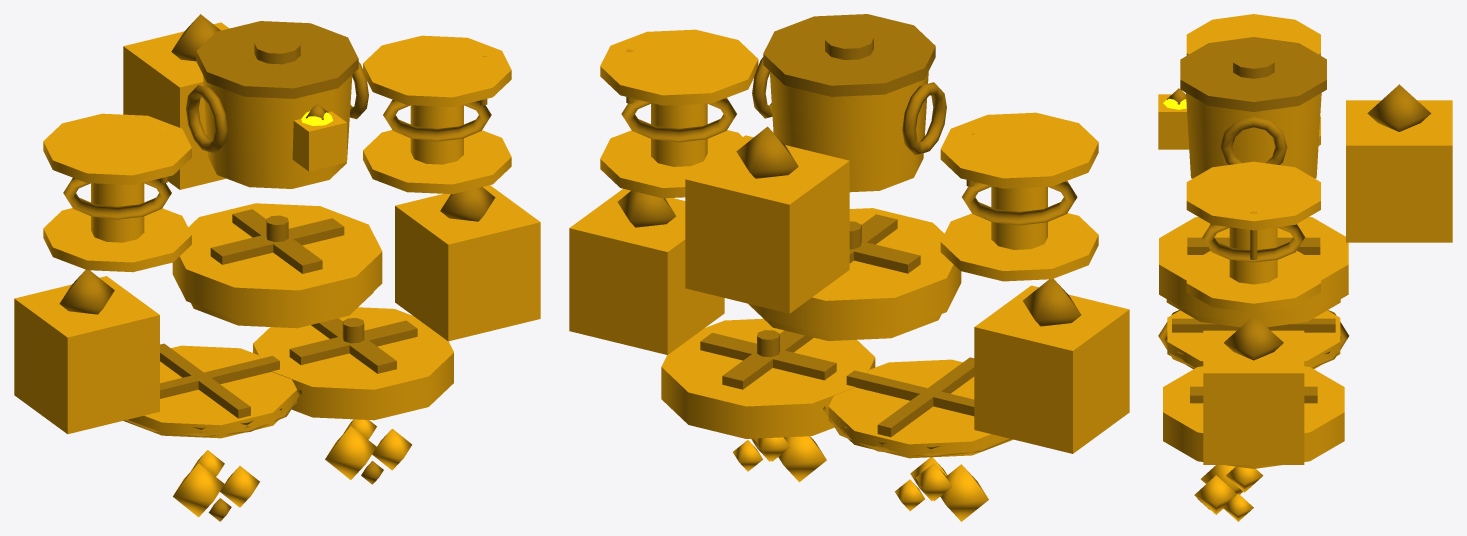
The model's file is golem_014.glb.
3 renders of one model, left to right at view 1: azimuth 30°, elevation 25°; view 2: azimuth 150°, elevation 25°; view 3: azimuth 270°, elevation 25°, orthographic. The views are drawn at different scales.
Visible parts, largest first — view 1: Body, Detail; view 2: Body, Detail; view 3: Body, Detail.
Part boxes in pixels (bbox=[...]): Body: bbox=[14, 22, 540, 517]; Detail: bbox=[59, 14, 495, 521]; Body: bbox=[569, 29, 1129, 521]; Detail: bbox=[617, 14, 1081, 457]; Body: bbox=[1158, 14, 1452, 521]; Detail: bbox=[1158, 37, 1431, 509].
Bounding box in the file's own units: 1.13 × 1.01 × 0.6448.
